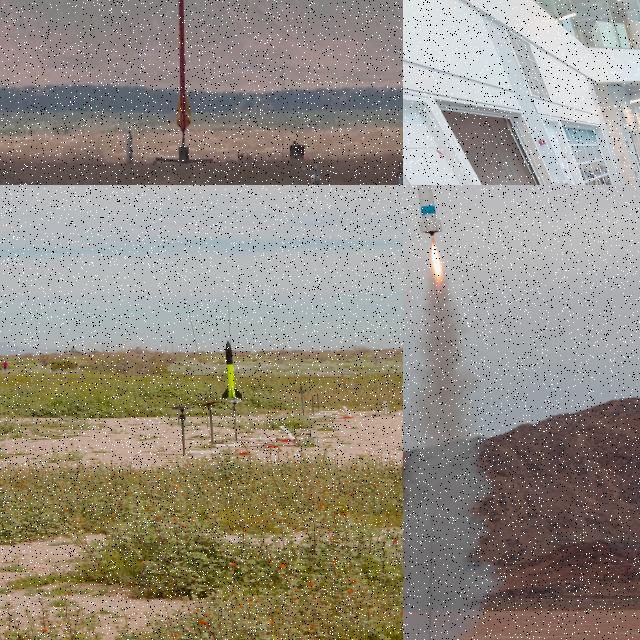Rocket: (173, 0, 192, 130), (410, 185, 443, 236), (222, 340, 242, 400)
